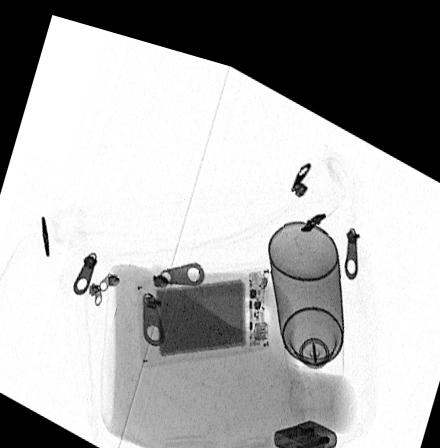Lighter: (273, 401, 338, 441)
Powerbank: (135, 252, 271, 361)
Sprayer: (267, 203, 345, 372)
